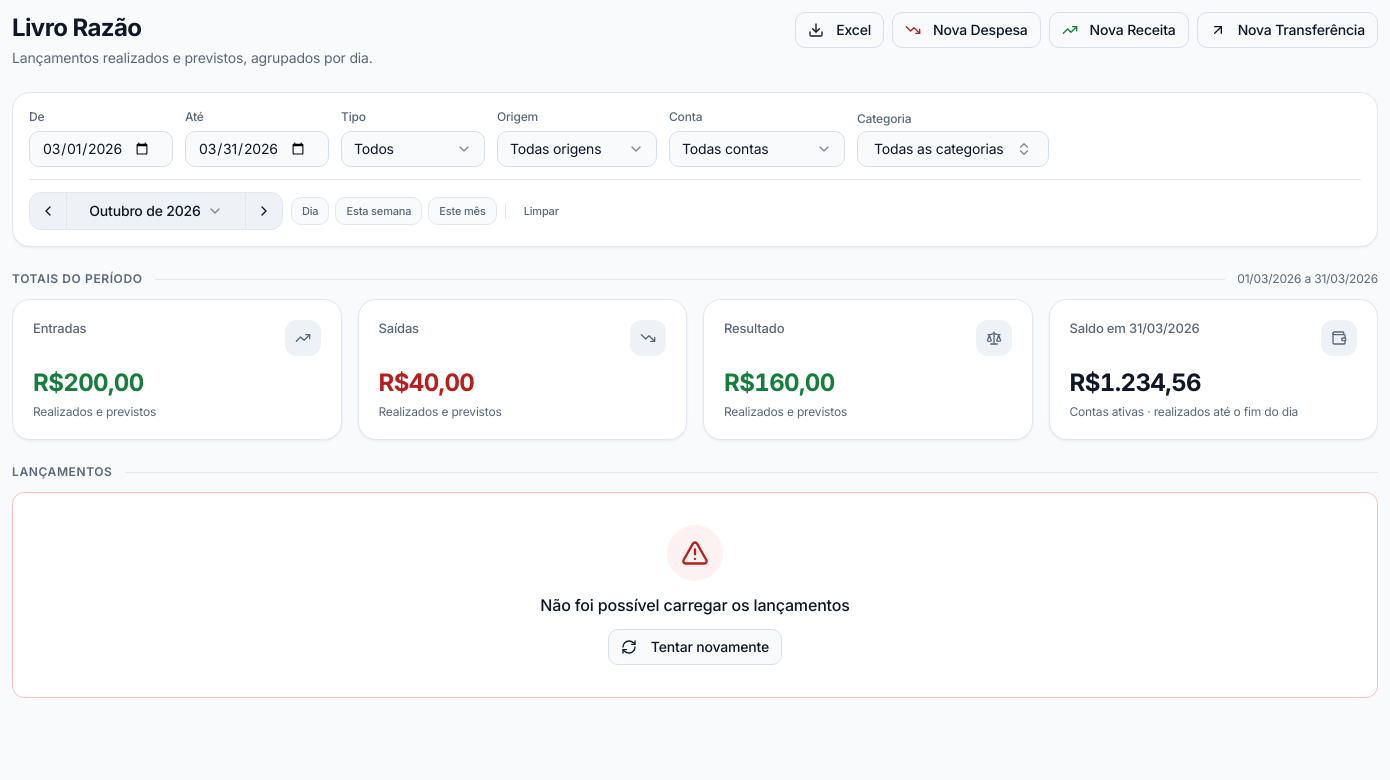
Livro Razão (V2) › erro da lista mostra estado de erro (não "nenhum lançamento") e tenta de novo
The width and height of the screenshot is (1390, 780).
expect the text "Não foi possível carregar os lançamentos" is shown: met, box [540,595,850,615]
Click the button "Tentar novamente".
click(695, 647)  # box [608,629,782,665]
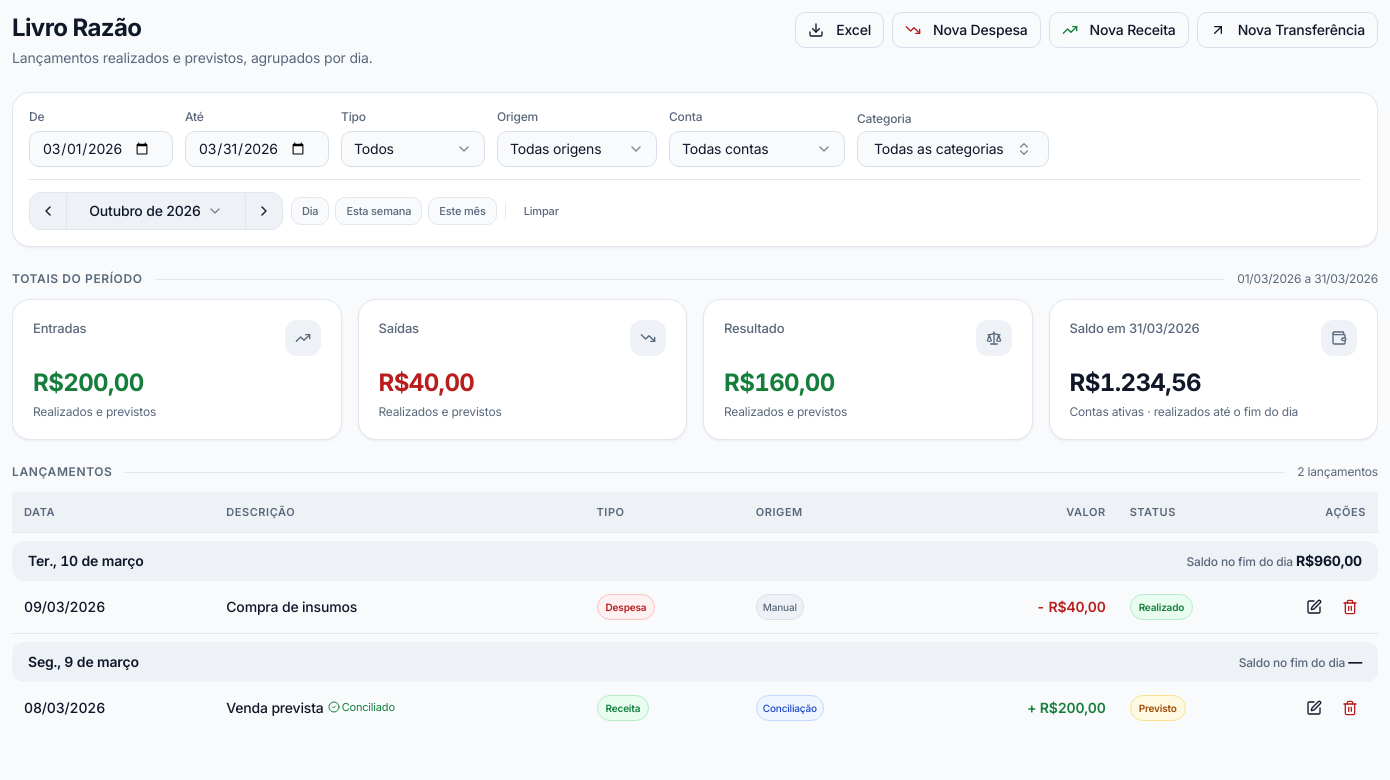
expect the text "Compra de insumos" is shown: met, box [226,598,357,614]
